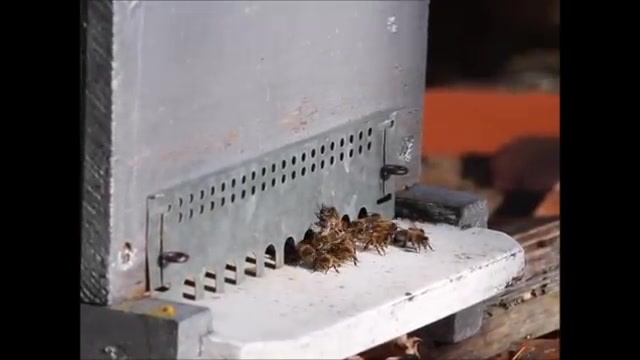bee: (392, 228, 431, 251), (322, 225, 357, 250), (363, 229, 389, 253), (295, 243, 317, 265), (317, 255, 344, 272)
